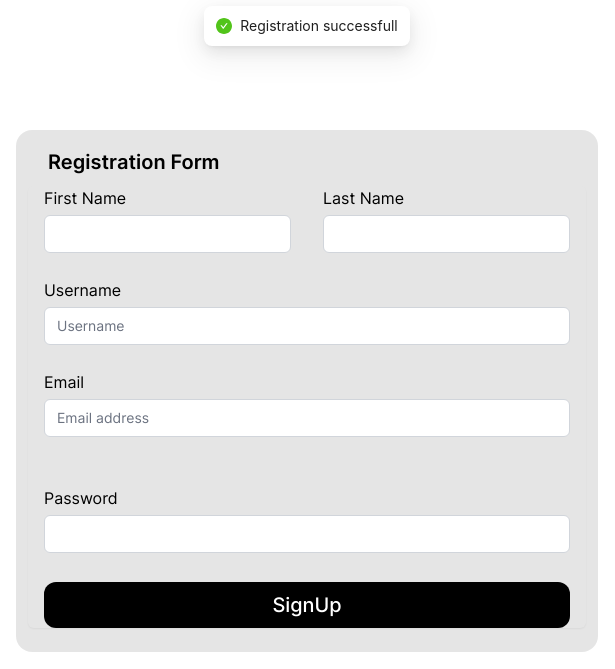
Signup Page › should show error message on form submission failure
In the field labelled "Username": (307, 326) [44,306,570,344], type "testuser"
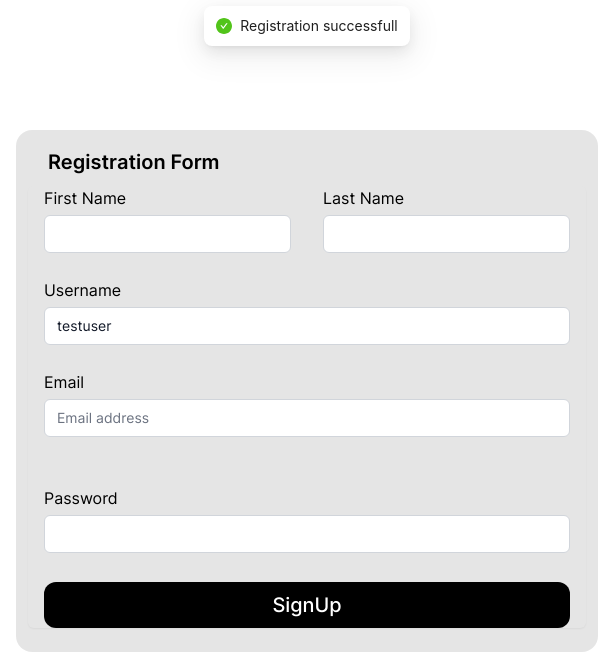
In the field labelled "Email": (307, 418) [44,398,570,436], type "testuser@example.com"
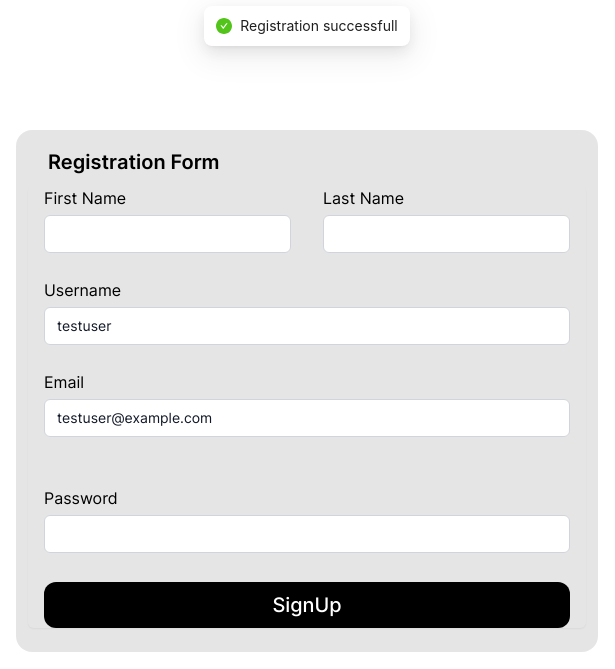
In the password field labelled "Password": (307, 534) [44,514,570,552], type "Test@1234"
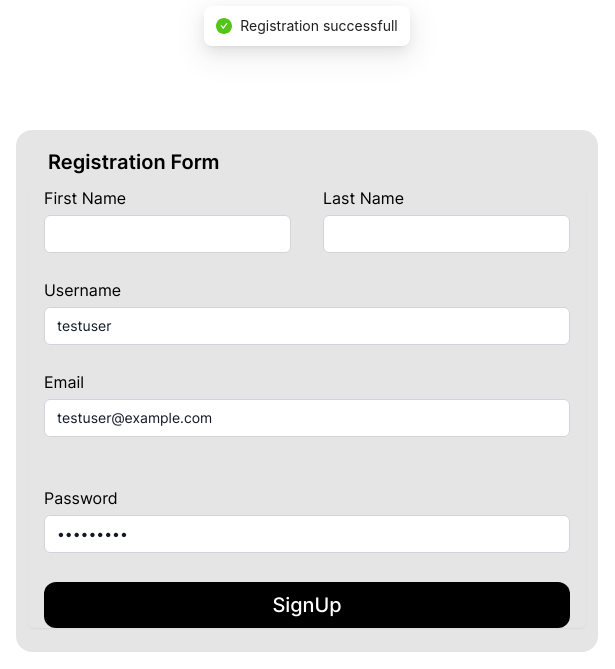
In the field labelled "First Name": (168, 234) [44,214,291,252], type "Test"
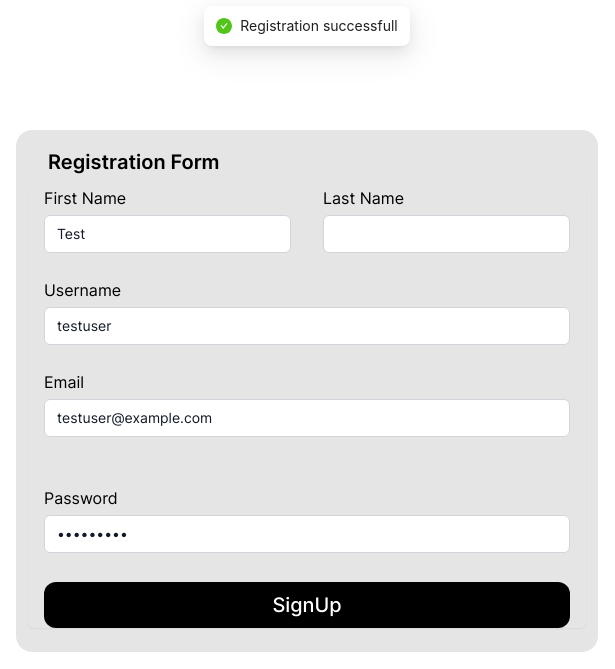
In the field labelled "Last Name": (446, 234) [323,214,570,252], type "User"
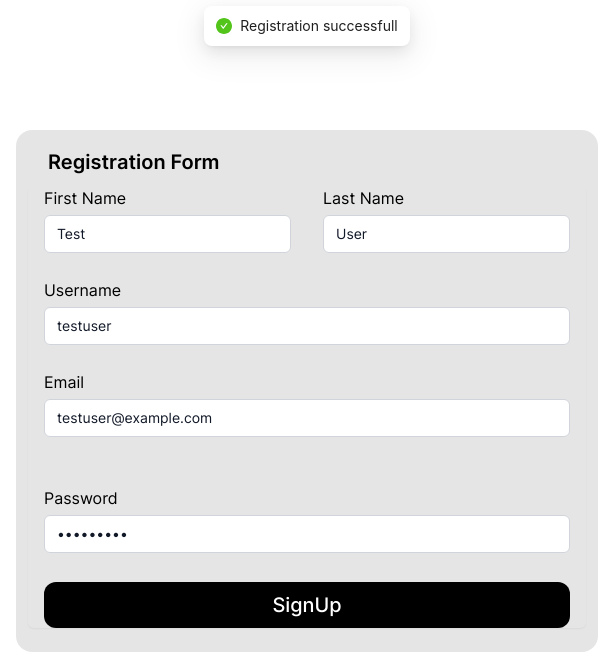
Click the button "SignUp": (307, 604) [44,582,570,628]
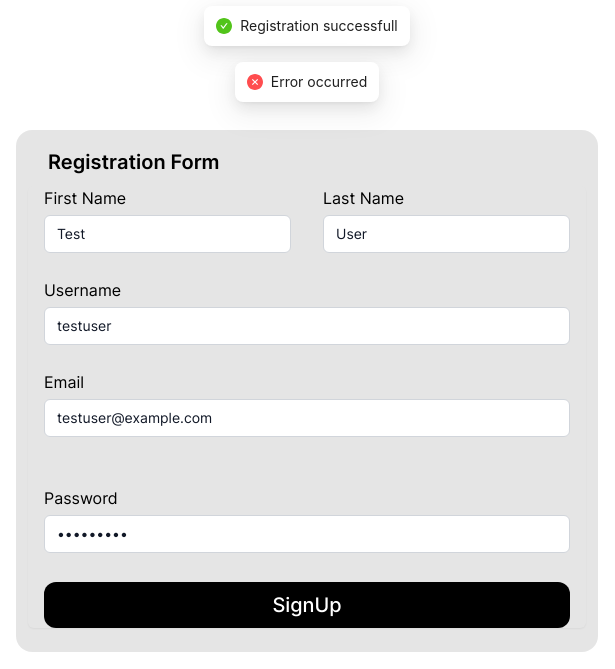
Result: the text "Error occurred" is shown at [271,71,367,93]
